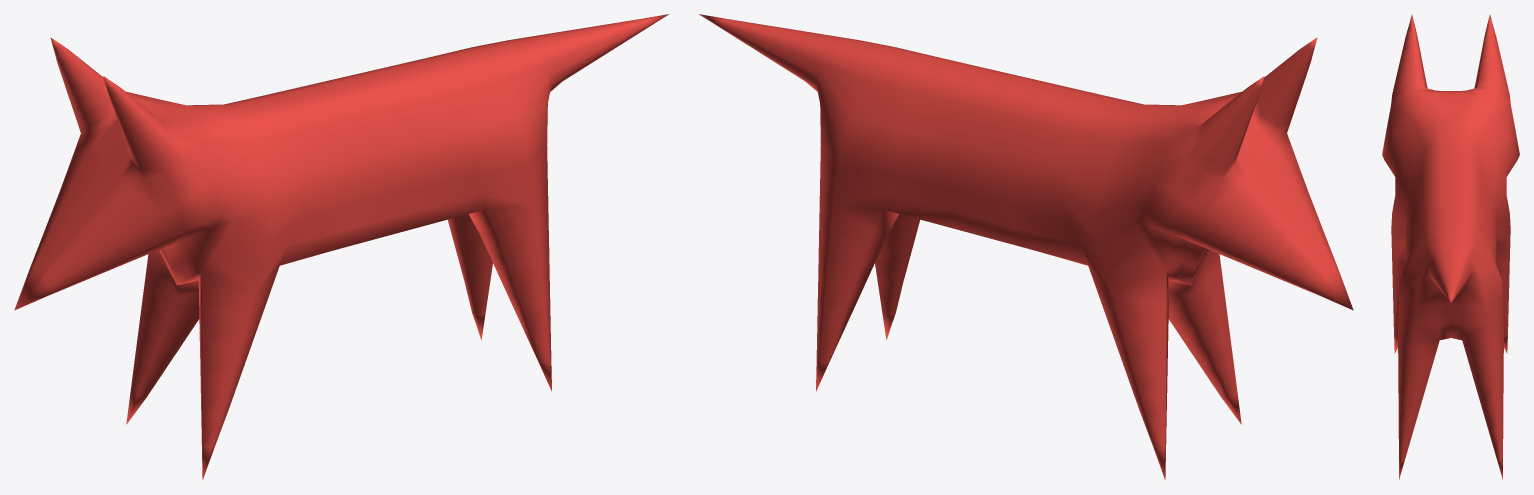
File: dog_test006.fbx
3 views of the same model, side by side, from view 1: azimuth 30°, elevation 25°; view 2: azimuth 150°, elevation 25°; view 3: azimuth 270°, elevation 25° (orthographic). The views are drawn at different scales.
Parts seen in each view (by area): view 1: dog body; view 2: dog body; view 3: dog body.
Boxes of the visible parts, x1,y1,x2,y2 form: dog body: (14,14,668,479); dog body: (699,14,1353,479); dog body: (1382,14,1519,479).
Size of the model in its own units: 24.01 by 97.37 by 59.33.
